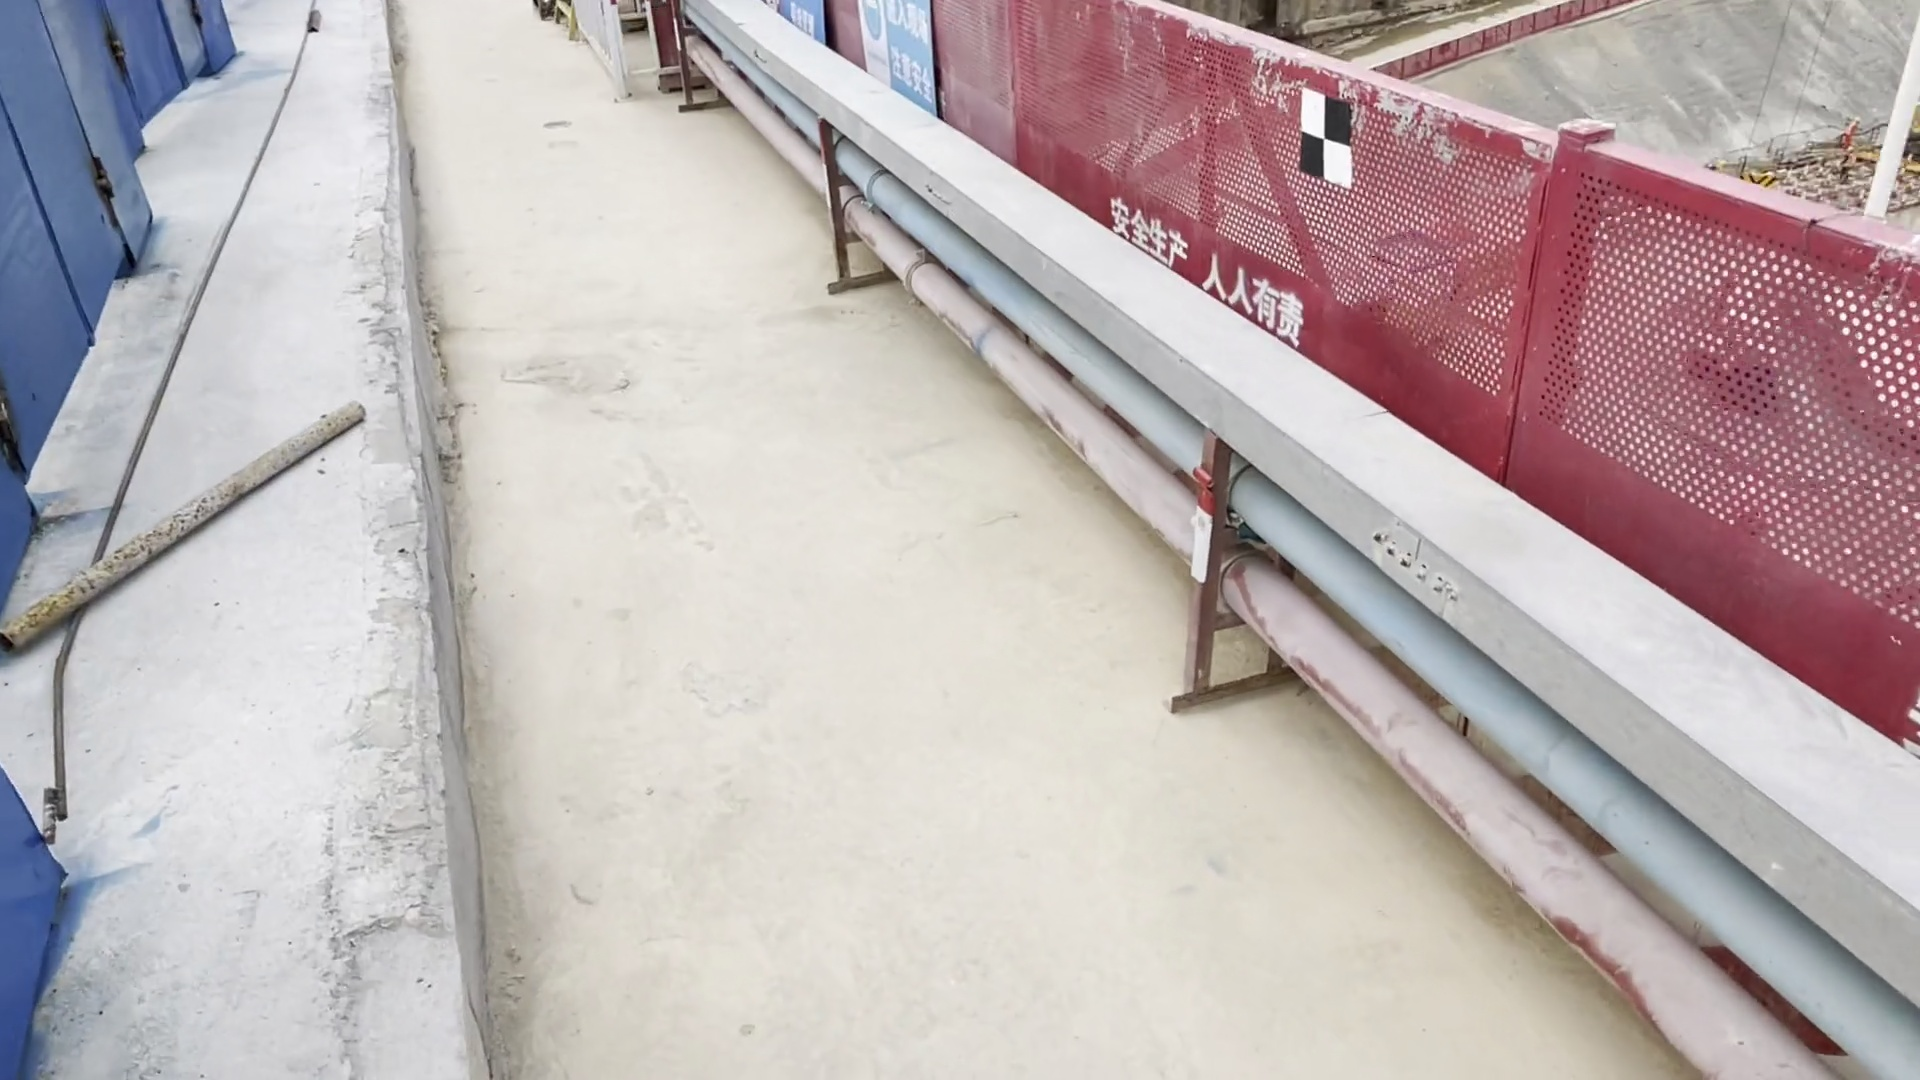fence: (1034, 1, 1903, 727)
slogan: (1092, 190, 1333, 367), (857, 1, 943, 123)
